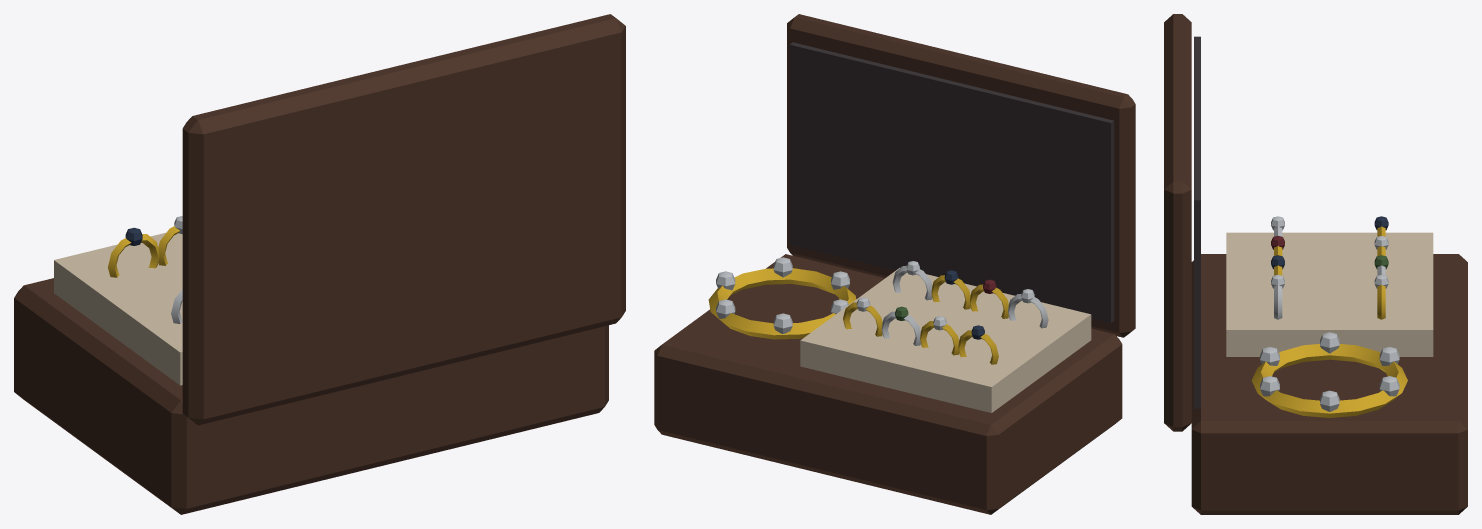
Rendered from prop_valuables_jewelry_case.glb.
The picture shows the model from 3 angles, left to right: view 1: azimuth 30°, elevation 25°; view 2: azimuth 150°, elevation 25°; view 3: azimuth 270°, elevation 25°; orthographic projection. The views are drawn at different scales.
Parts seen in each view (by area): view 1: Case; view 2: Case; view 3: Case.
Boxes of the visible parts, x1,y1,x2,y2 form: Case: (14,14,625,514); Case: (654,14,1135,514); Case: (1164,14,1467,514).
Bounding box in the file's own units: 0.18 × 0.16 × 0.132.
